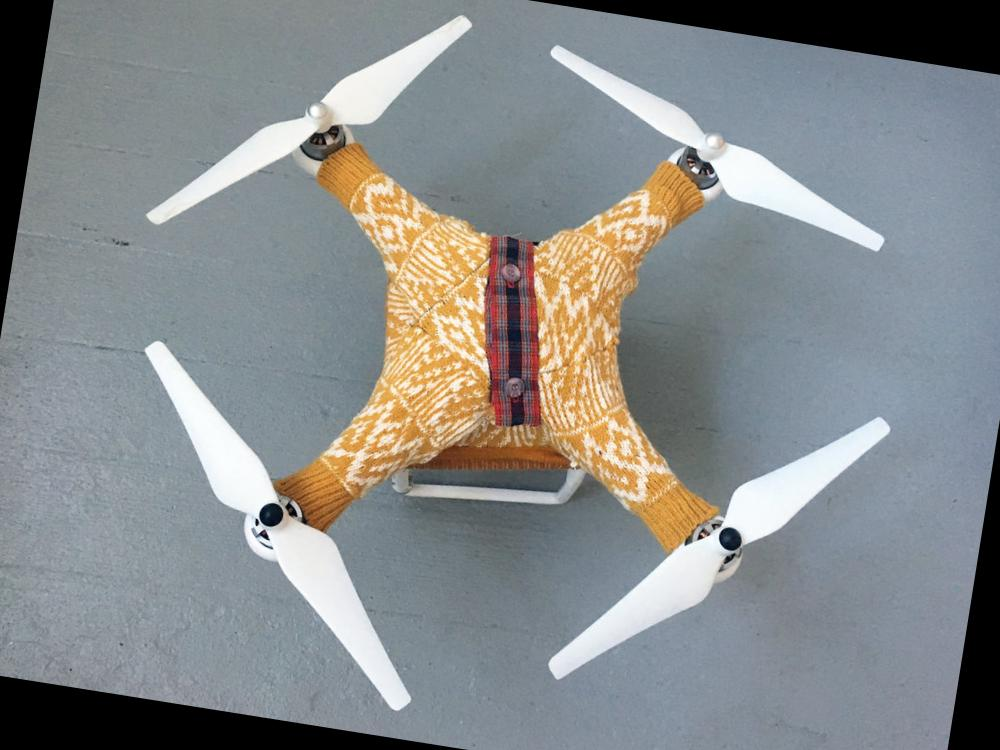drone: (48, 0, 949, 750)
